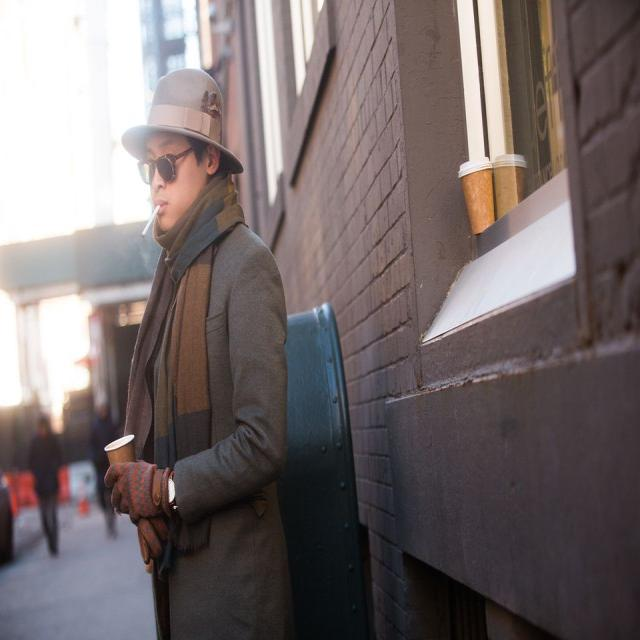hat: (121, 69, 243, 238)
